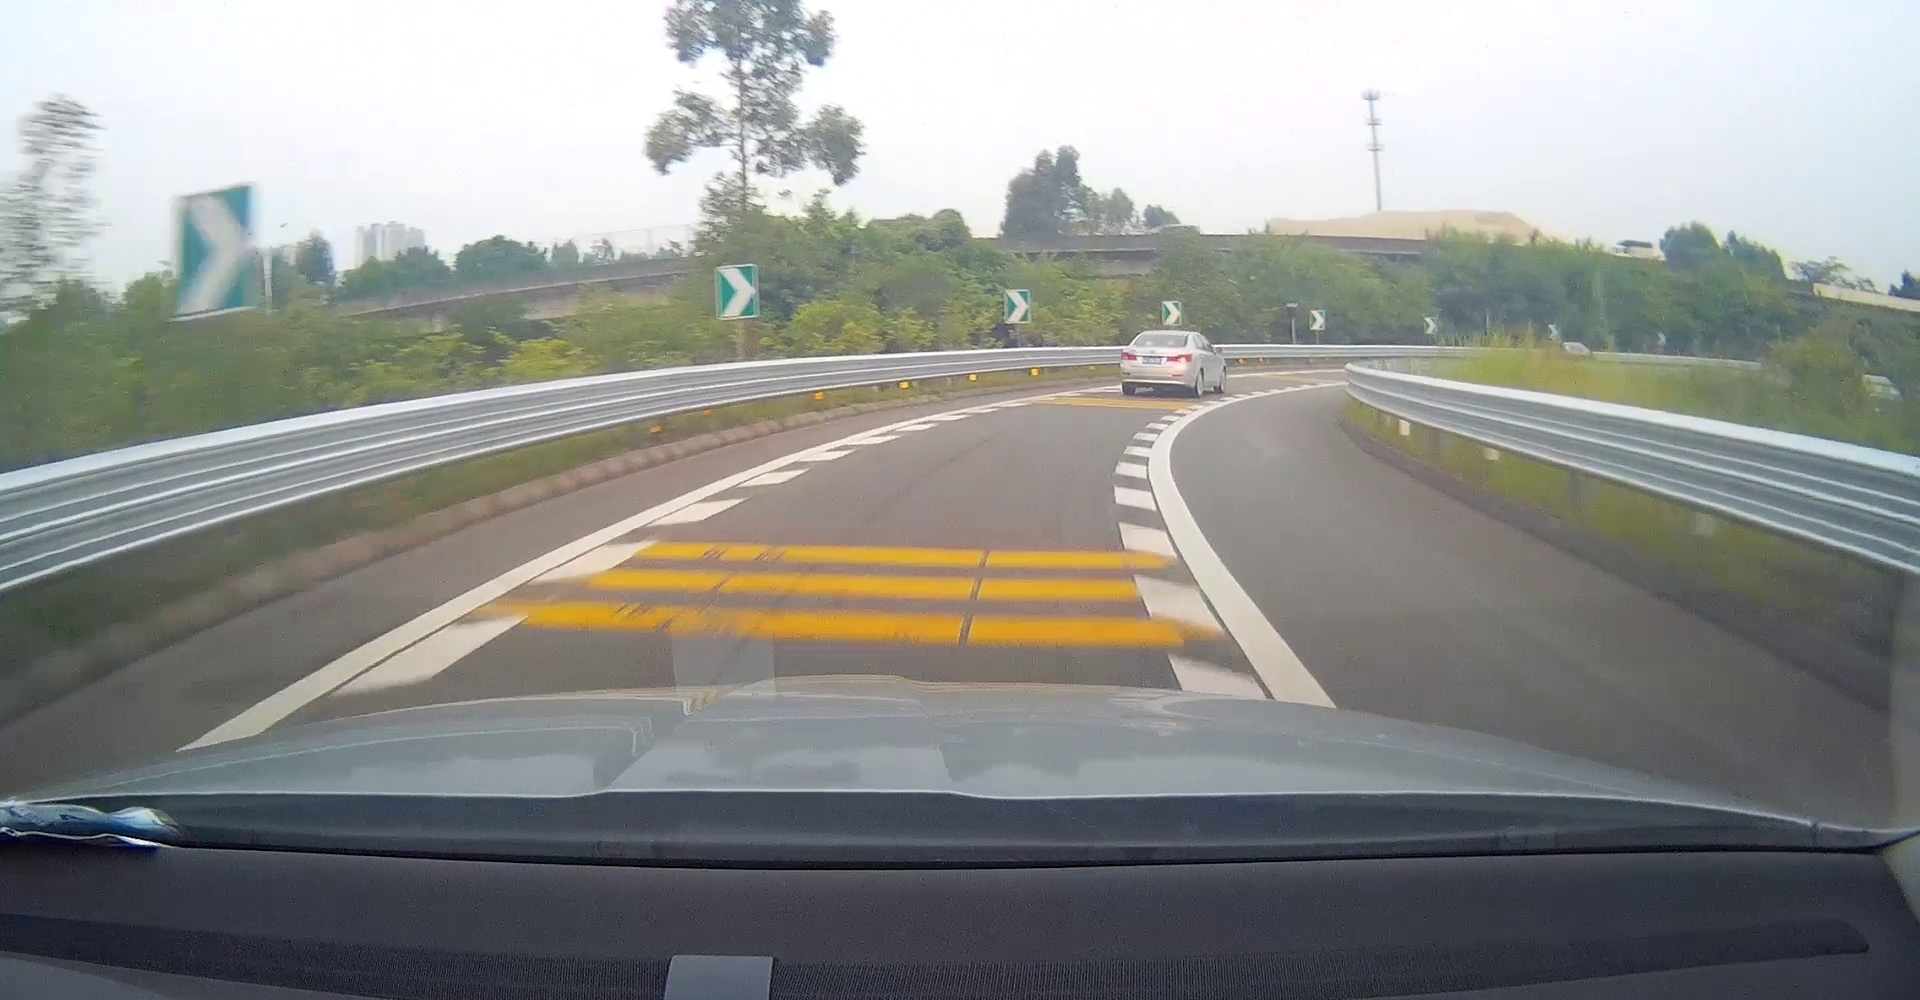L_light: (1121, 352, 1138, 360)
R_light: (1167, 353, 1192, 363)
T_light: (1154, 334, 1170, 338)
day-right: (1120, 330, 1195, 398)
